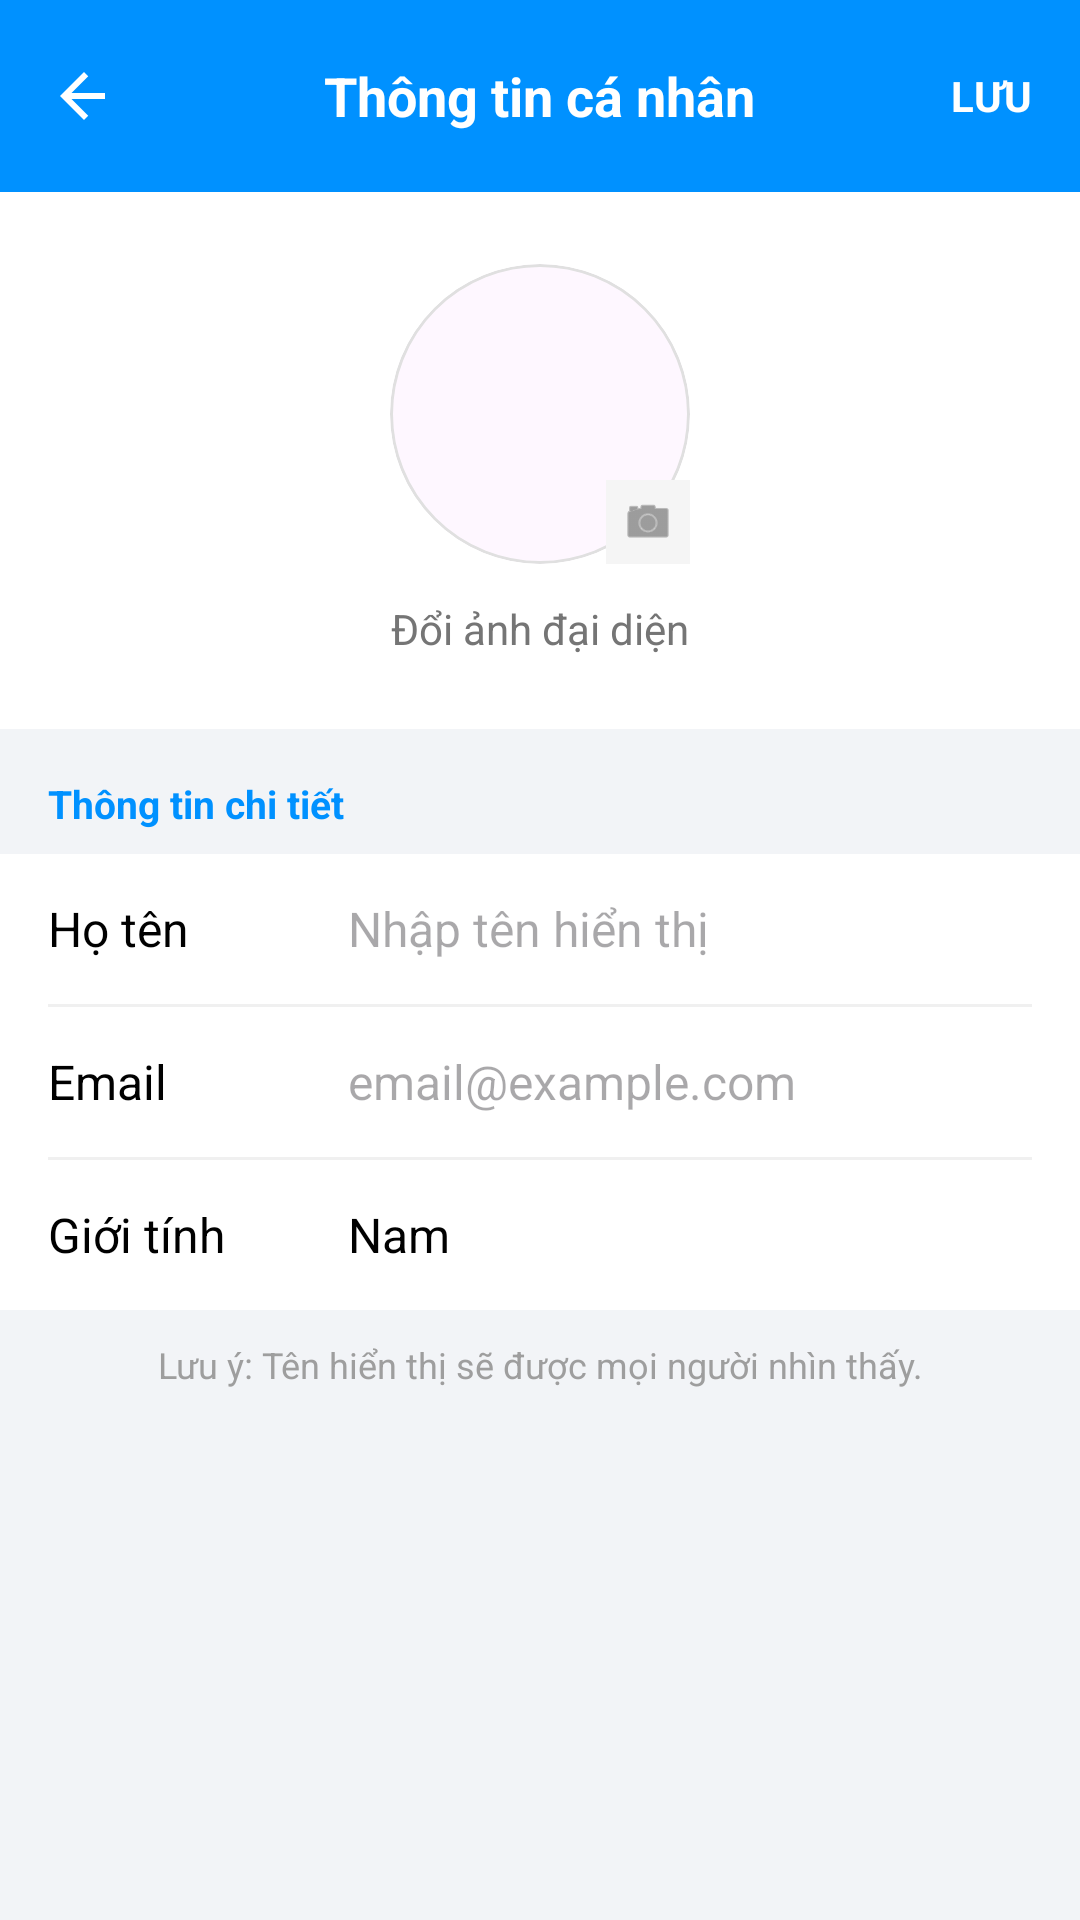

Locate icon controls on the screen. Image size 1080×1920, boxes as Rect(x1, y1, x2, y2).
Back: Rect(60, 72, 105, 120)
camera: Rect(627, 504, 669, 538)
